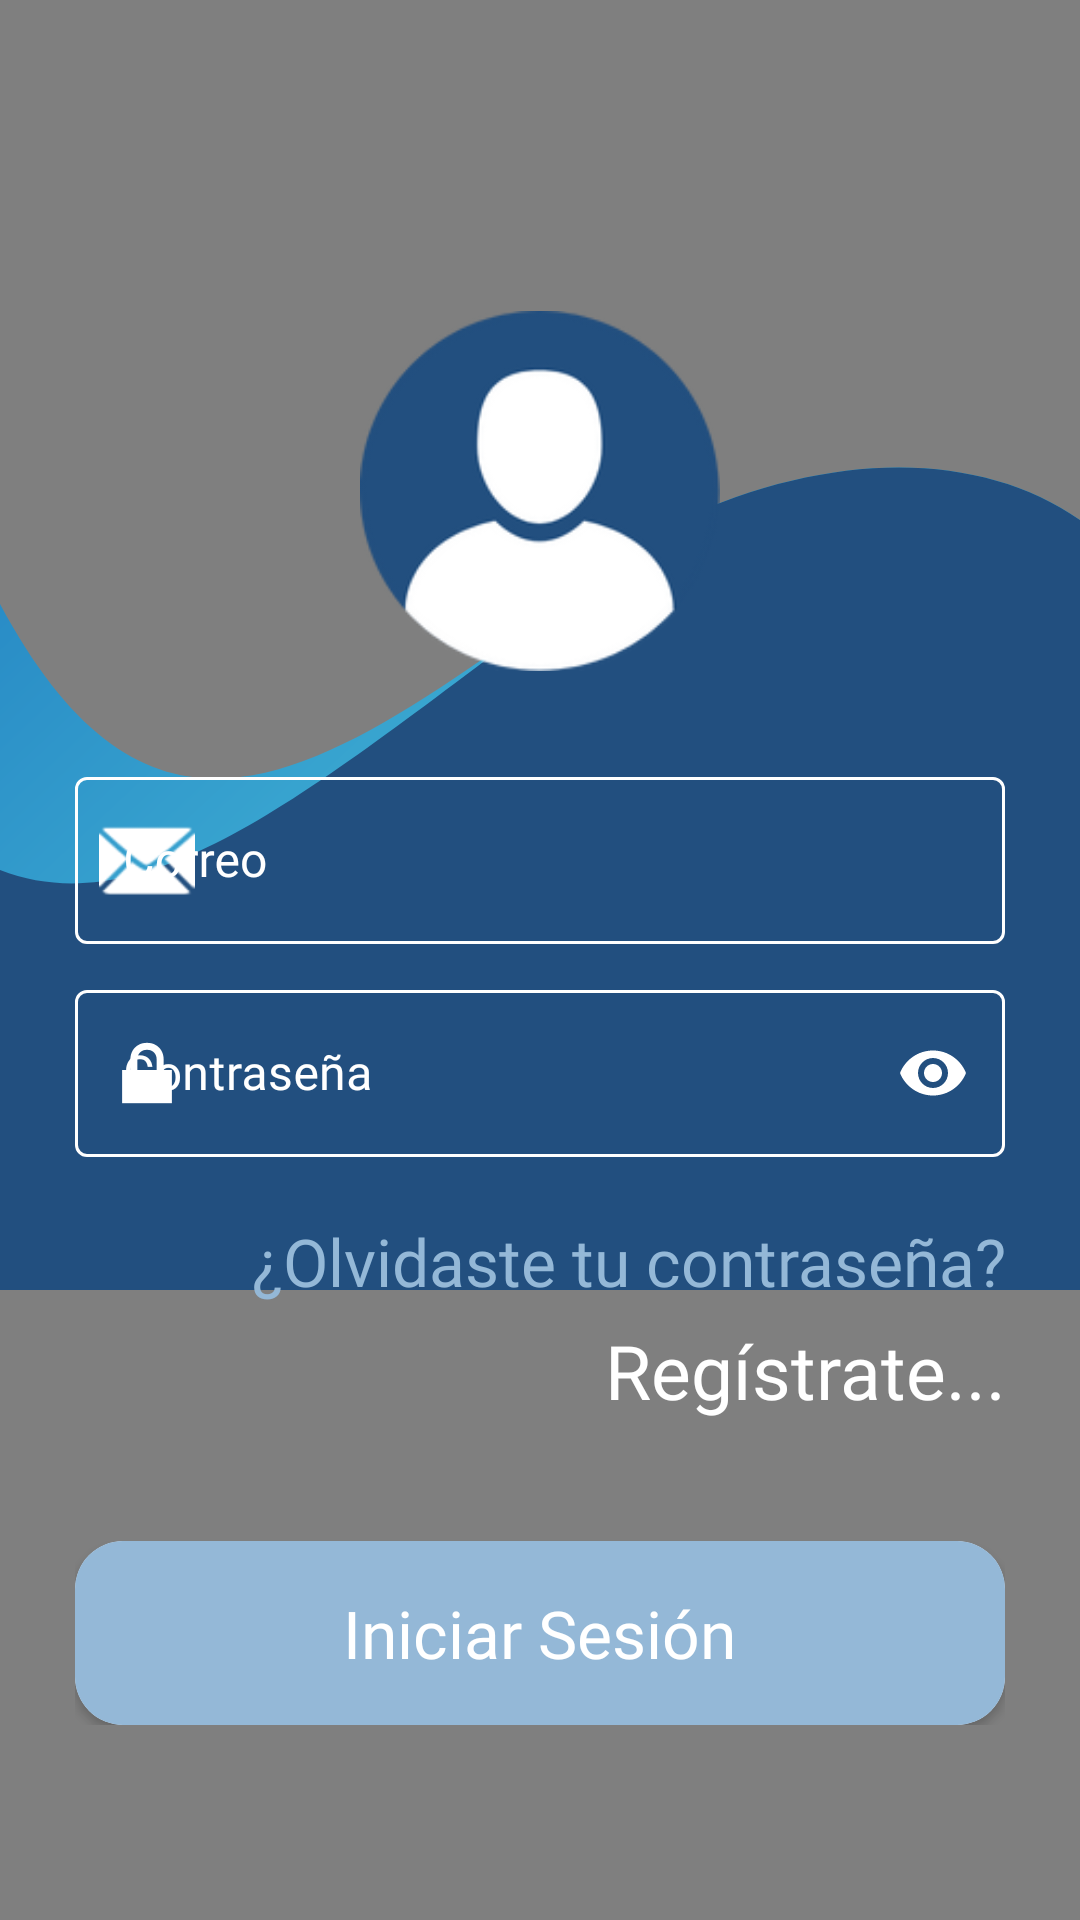

Named icons in this screenshot (1080 x 1920) and their centers, point (x, y):
login usuario: point (540, 491)
